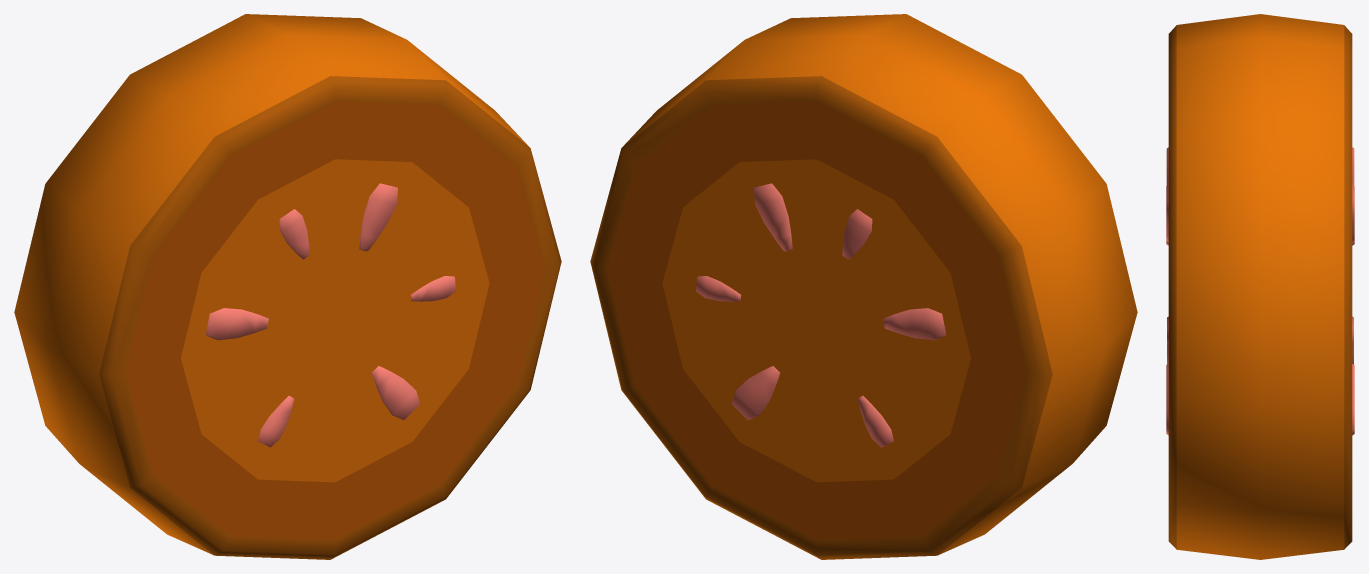
The model's file is Zucchini_green_slice.fbx.
The picture shows the model from 3 angles, left to right: view 1: azimuth 30°, elevation 25°; view 2: azimuth 150°, elevation 25°; view 3: azimuth 270°, elevation 25°; orthographic projection.
Parts seen in each view (by area): view 1: Zucchini_green_slice; view 2: Zucchini_green_slice; view 3: Zucchini_green_slice.
Part boxes in pixels (x1,y1,x2,y2): Zucchini_green_slice: (14, 14, 561, 559); Zucchini_green_slice: (590, 14, 1137, 559); Zucchini_green_slice: (1166, 14, 1354, 559).
Bounding box in the file's own units: 39.56 × 13.64 × 39.65.
